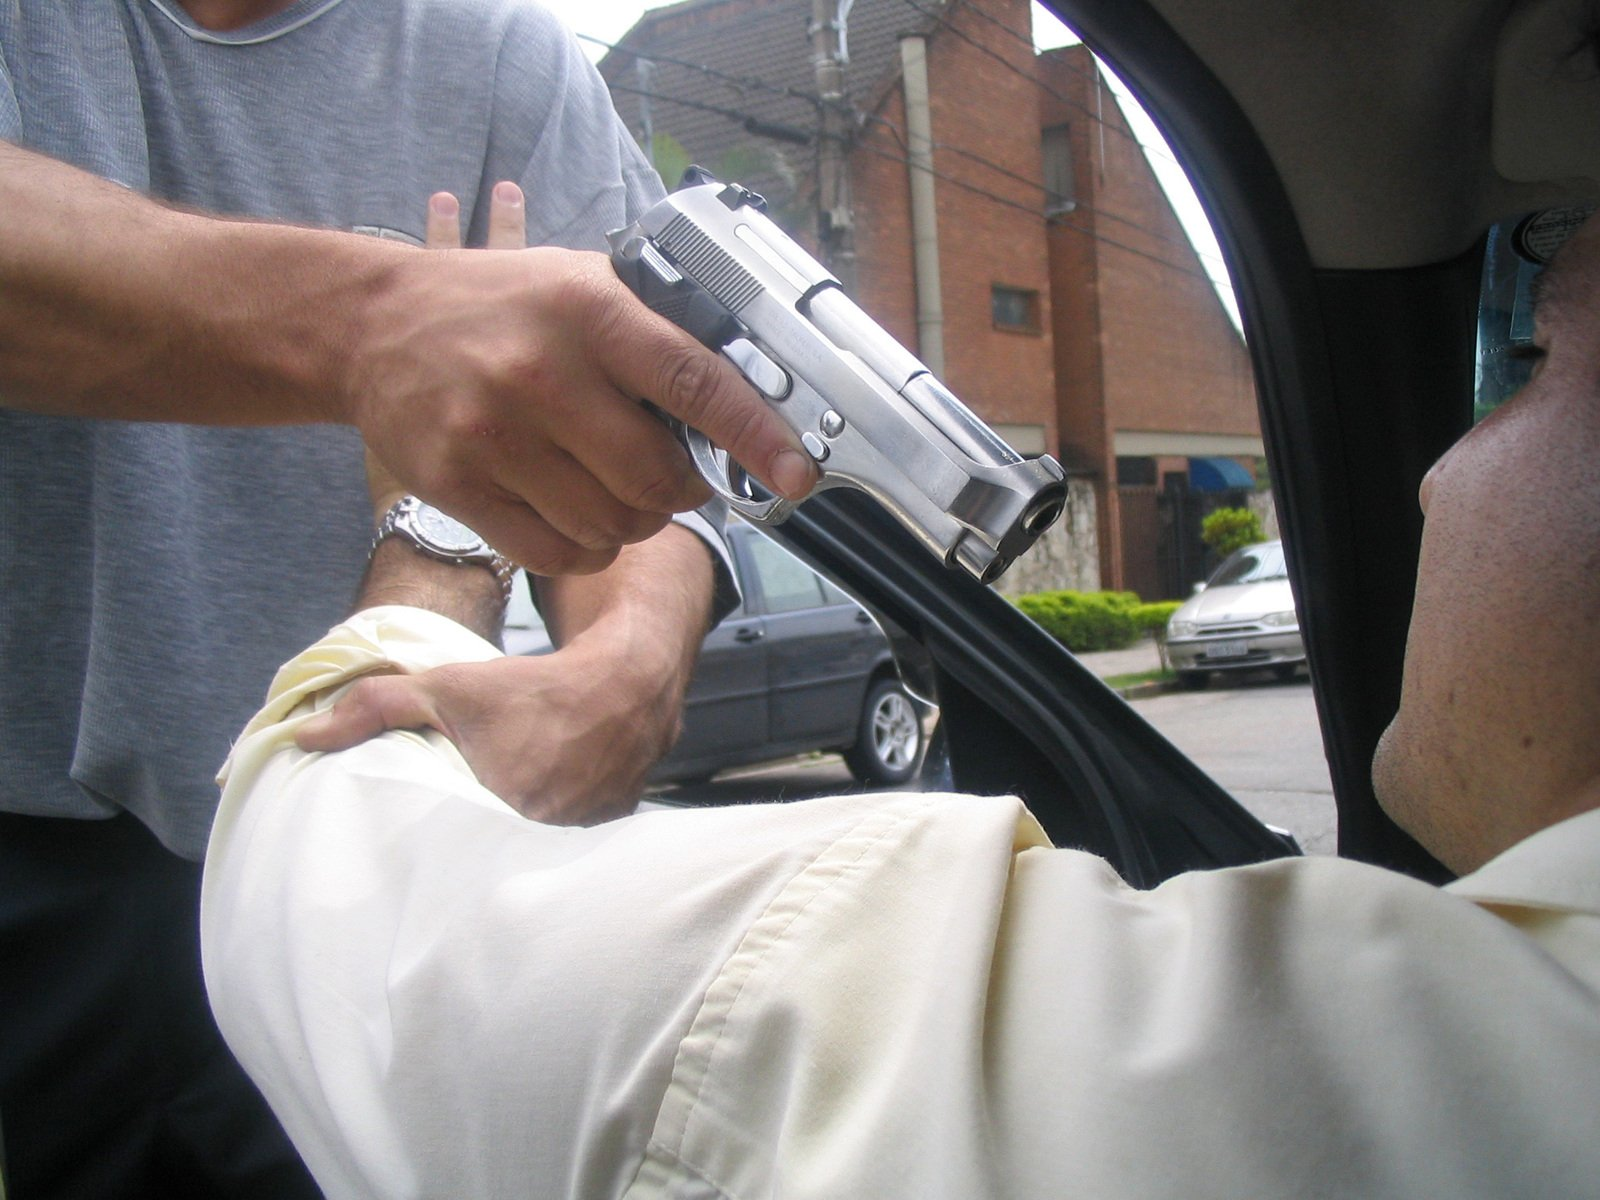gun: (602, 165, 1072, 597)
